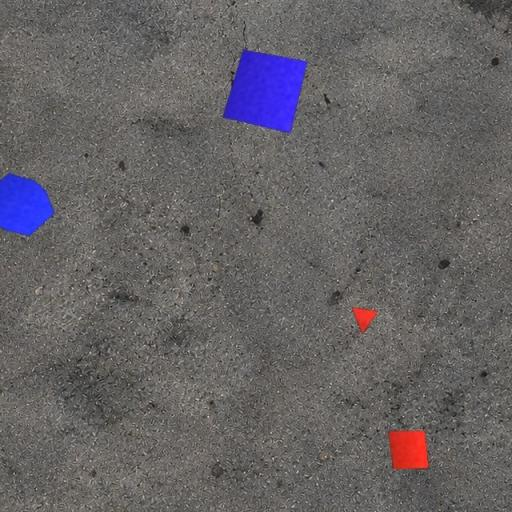BLUE_SQUARE: (222, 48, 308, 134)
RED_SQUARE: (388, 430, 430, 470)
